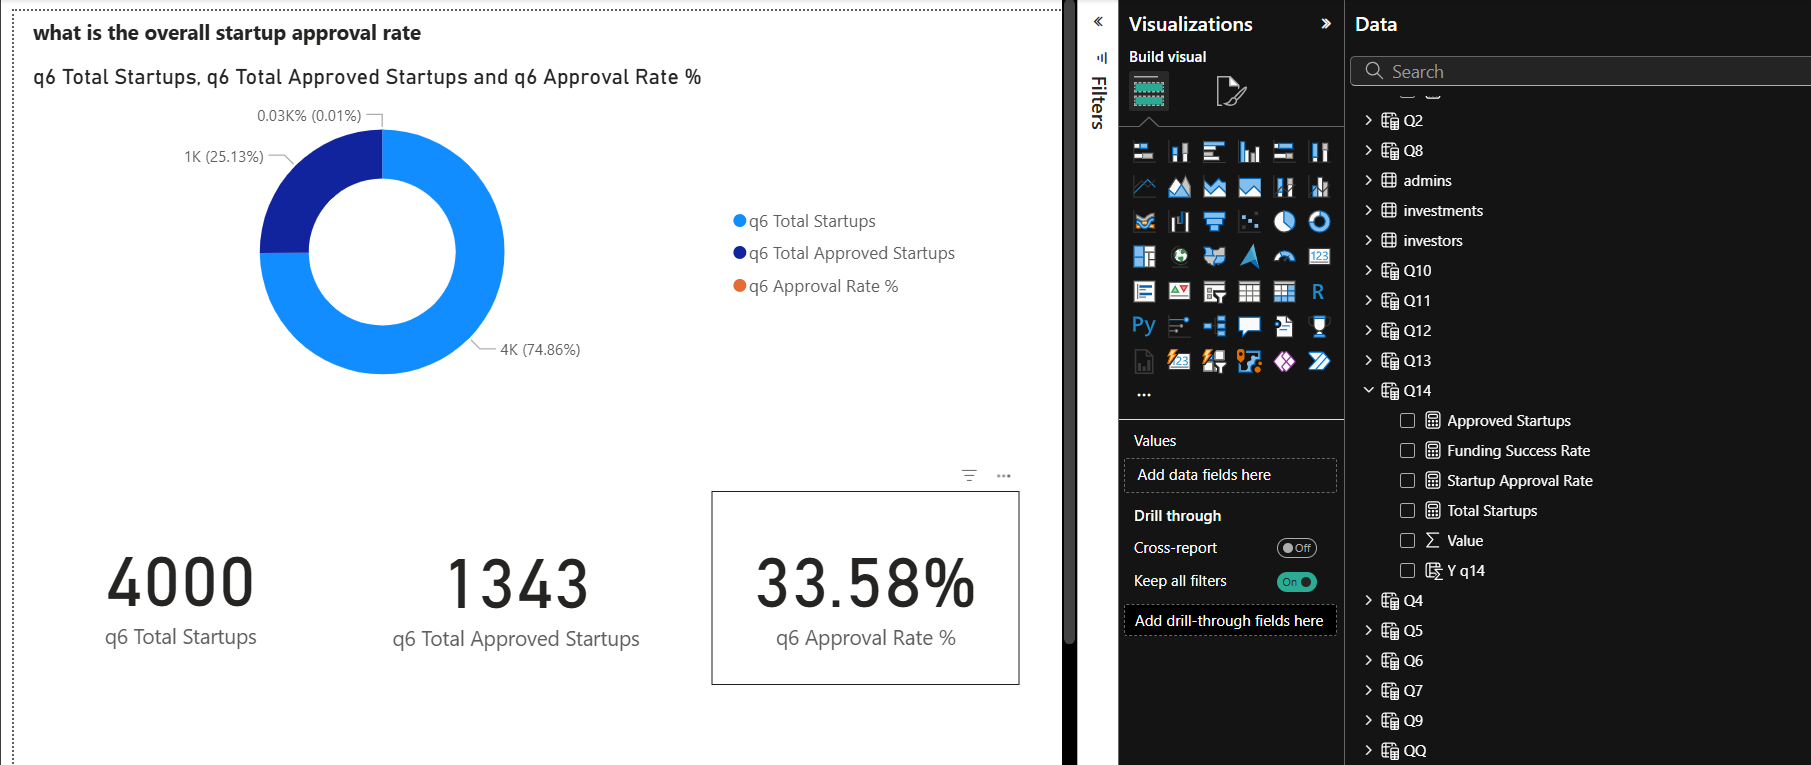

The dashboard page shown, as its layout file describes it:
{"tool":"powerbi","page":{"name":"Page 3","canvas":[1280,720],"ordinal":2},"visuals":[{"type":"textbox","box":[10,0,736,50],"z":0},{"type":"donutChart","fields":{"Y":["Q6.q6 Total Startups","Q6.q6 Total Approved Startups","Q6.q6 Approval Rate %"]},"box":[10,41,736,274],"z":1000},{"type":"card","fields":{"Values":["Q6.q6 Total Startups"]},"box":[10,383,240,129],"z":2000},{"type":"card","fields":{"Values":["Q6.q6 Total Approved Startups"]},"box":[260,383,260,132],"z":3000},{"type":"card","fields":{"Values":["Q6.q6 Approval Rate %"]},"box":[542,373,240,150],"z":4000}]}

Visuals, with their boxes on the page's 1280x720 design canvas (x1, y1, x2, y2). These are canvas units, not pixel positions in the 1811x765 screenshot, which may show the page scaled, cropped or inside an application window:
textbox: locate(10, 0, 746, 50)
donutChart - Q6.q6 Total Startups x Q6.q6 Total Approved Startups: locate(10, 41, 746, 315)
card - Q6.q6 Total Startups: locate(10, 383, 250, 512)
card - Q6.q6 Total Approved Startups: locate(260, 383, 520, 515)
card - Q6.q6 Approval Rate %: locate(542, 373, 782, 523)
